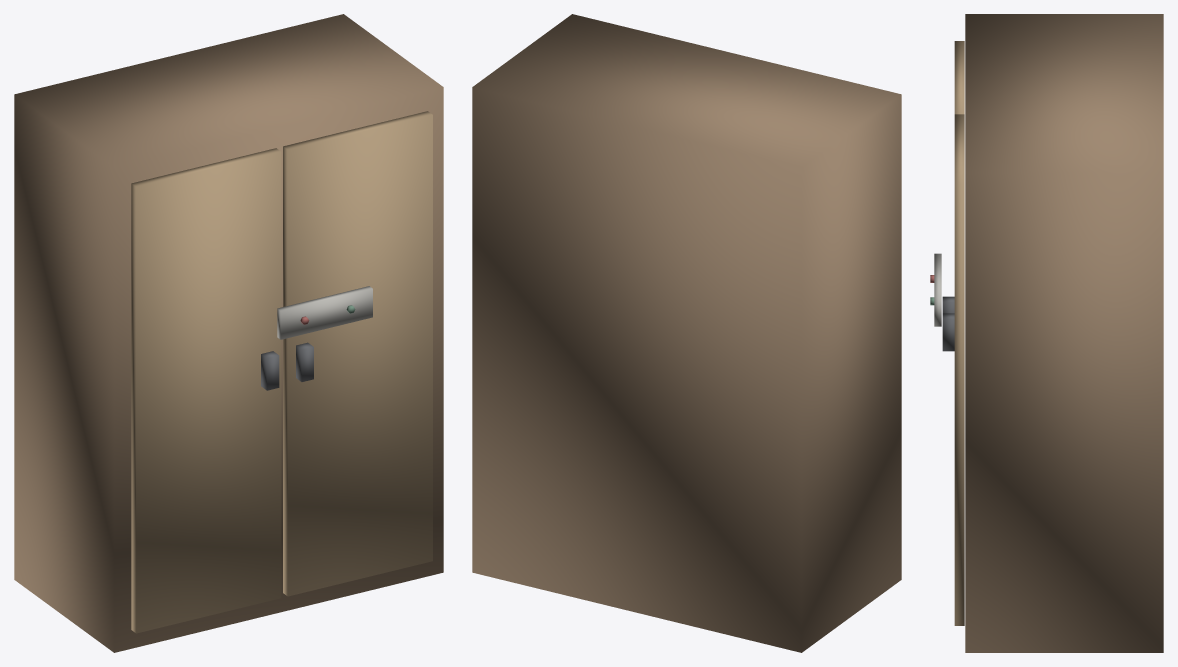
File: cupboard__reinforced.glb
3 views of the same model, side by side, from view 1: azimuth 30°, elevation 25°; view 2: azimuth 150°, elevation 25°; view 3: azimuth 270°, elevation 25° (orthographic).
Visible parts, largest first — view 1: world; view 2: world; view 3: world.
Boxes of the visible parts, bbox=[...] form: world: bbox=[14, 14, 443, 652]; world: bbox=[472, 14, 901, 652]; world: bbox=[930, 14, 1163, 652].
Bounding box in the file's own units: 0.9785 × 1.38 × 0.6062.
